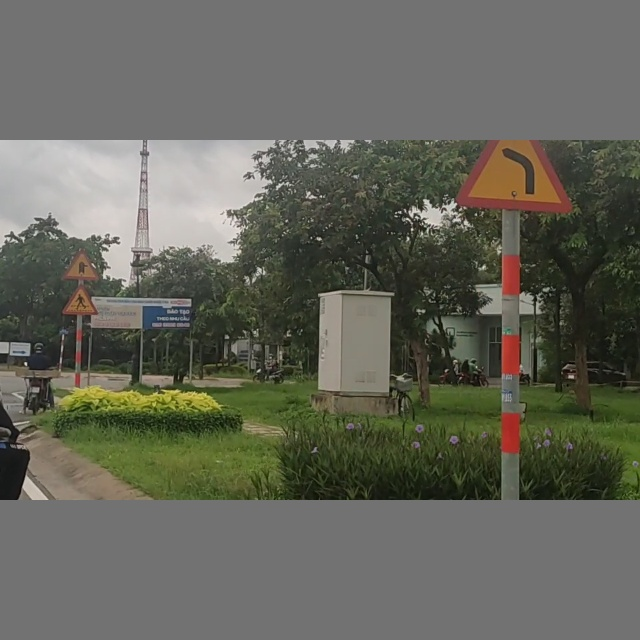W.201a: (456, 141, 579, 213)
W.207: (63, 247, 100, 280)
W.224: (61, 285, 100, 315)
